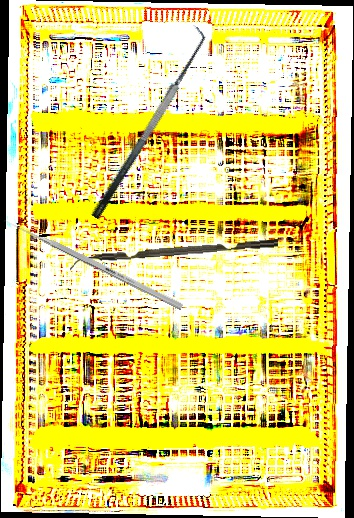Chopper: (69, 239, 279, 272)
Pusher: (2, 216, 184, 311)
Spatula Surgical: (75, 24, 218, 221)
